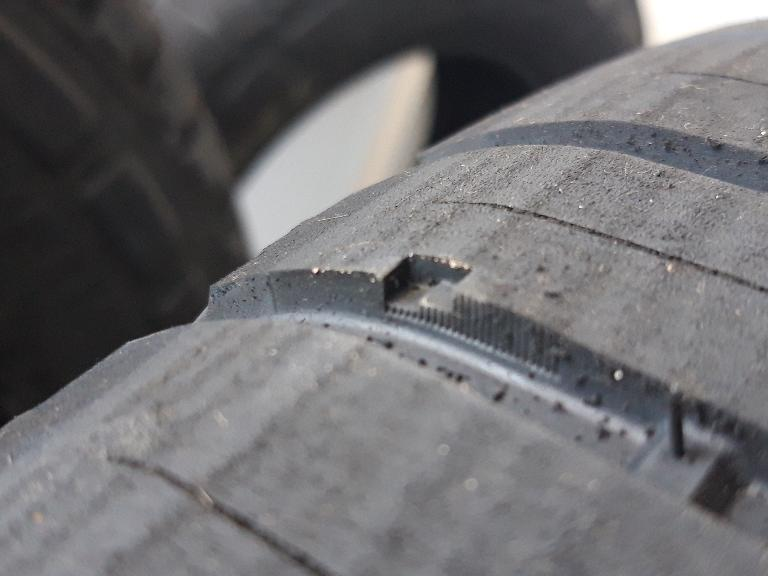temoin:50: (372, 246, 502, 360)
